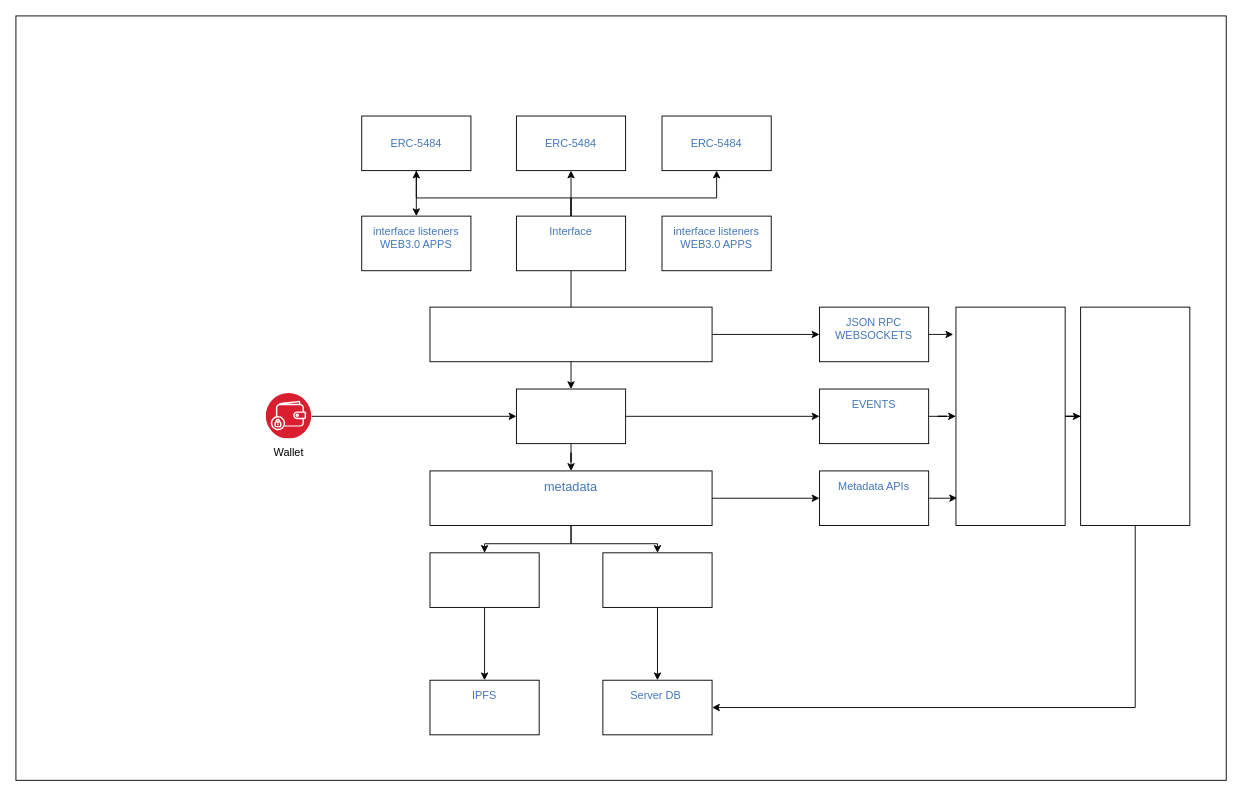
Image size: 1242x796. Some labels were removed from this diagram. Each missing label, with the centre of its shape:
"APIS" belongs at (1135,416).
"Application server" belongs at (1010,416).
"Cert ERC-5484" belongs at (571,416).
"Immutable data" belongs at (484,579).
"Mutable data" belongs at (657,579).
"polygon network" belongs at (570,334).
